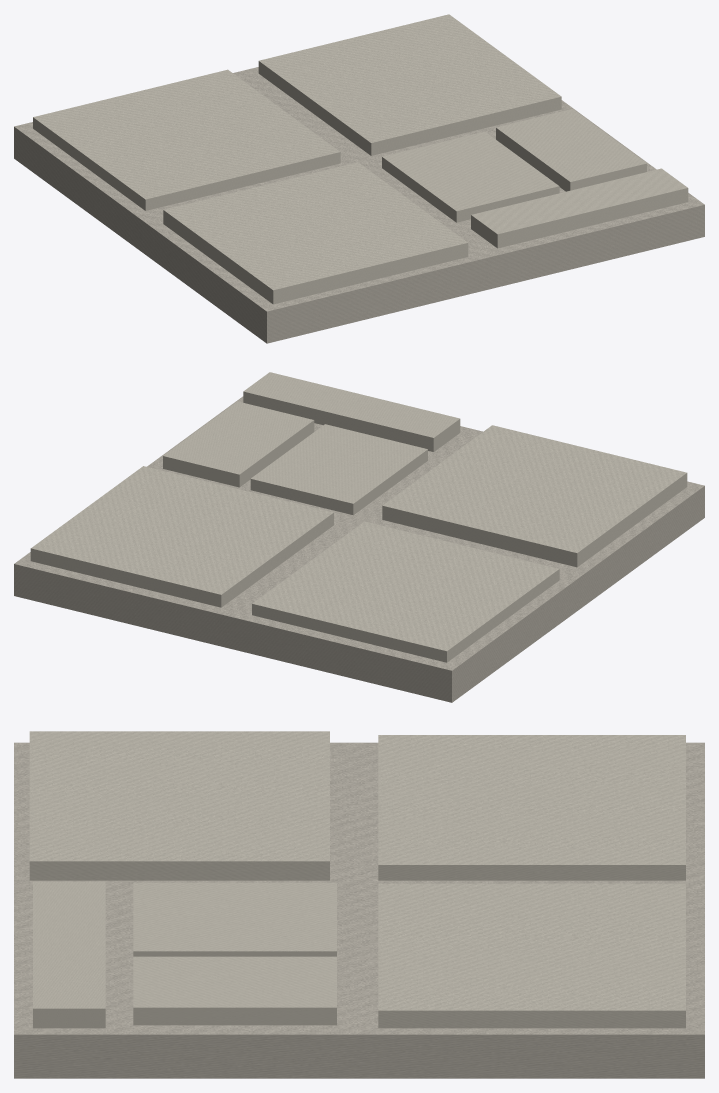
The model's file is stone-floor-tile.glb.
The picture shows the model from 3 angles, top to bottom: view 1: azimuth 30°, elevation 25°; view 2: azimuth 150°, elevation 25°; view 3: azimuth 270°, elevation 25°; orthographic projection. The views are drawn at different scales.
Visible parts, largest first — view 1: stone-floor-tile-stone, stone-floor-tile-gravel; view 2: stone-floor-tile-stone, stone-floor-tile-gravel; view 3: stone-floor-tile-stone, stone-floor-tile-gravel.
Boxes of the visible parts, x1,y1,x2,y2 form: stone-floor-tile-stone: (33,14,688,304); stone-floor-tile-gravel: (14,67,704,343); stone-floor-tile-stone: (30,372,687,662); stone-floor-tile-gravel: (14,396,704,702); stone-floor-tile-stone: (29,731,685,1028); stone-floor-tile-gravel: (14,742,704,1078).
Size of the model in its own units: 2 by 0.2019 by 2.
2 materials, 2 textured.
